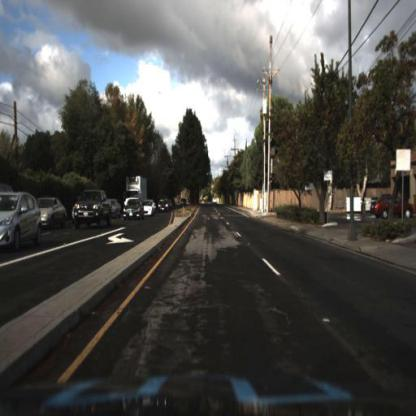car: (1, 192, 42, 254), (75, 191, 115, 226), (39, 196, 68, 236), (373, 196, 416, 221), (124, 199, 142, 220), (112, 194, 123, 223), (158, 196, 168, 217), (146, 201, 156, 218)
truck: (126, 175, 148, 207)
